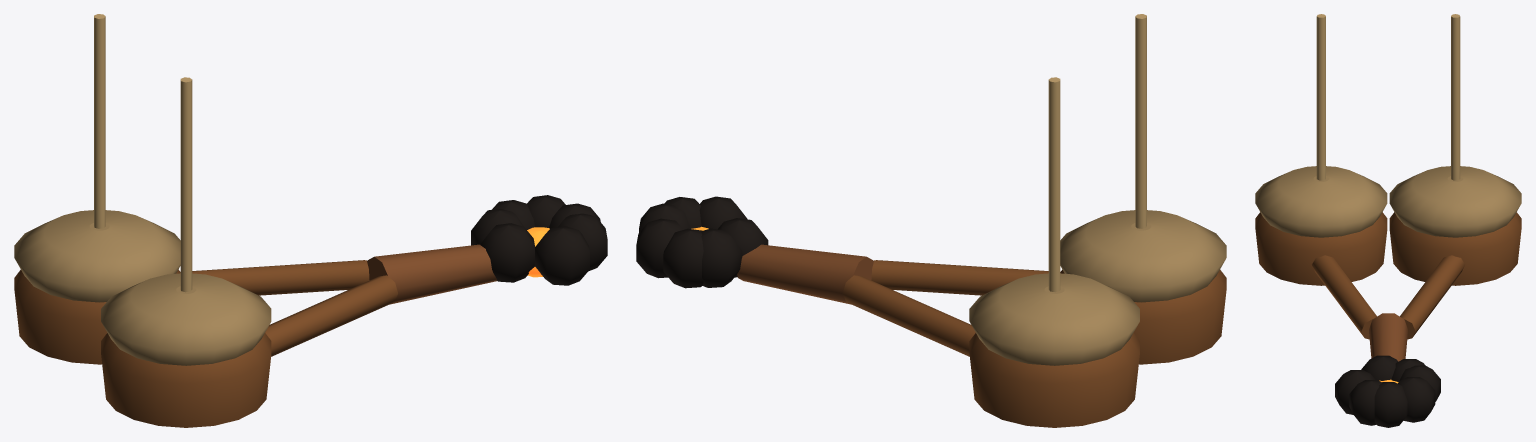
Rendered from soufflet.glb.
3 views of the same model, side by side, from view 1: azimuth 30°, elevation 25°; view 2: azimuth 150°, elevation 25°; view 3: azimuth 270°, elevation 25° (orthographic). The views are drawn at different scales.
Parts seen in each view (by area): view 1: soufflet; view 2: soufflet; view 3: soufflet.
Part boxes in pixels (<box>): soufflet: <box>14,14,607,427</box>; soufflet: <box>636,14,1226,427</box>; soufflet: <box>1255,14,1521,427</box>.
Bounding box in the file's own units: 1.21 × 0.694 × 0.6748.
